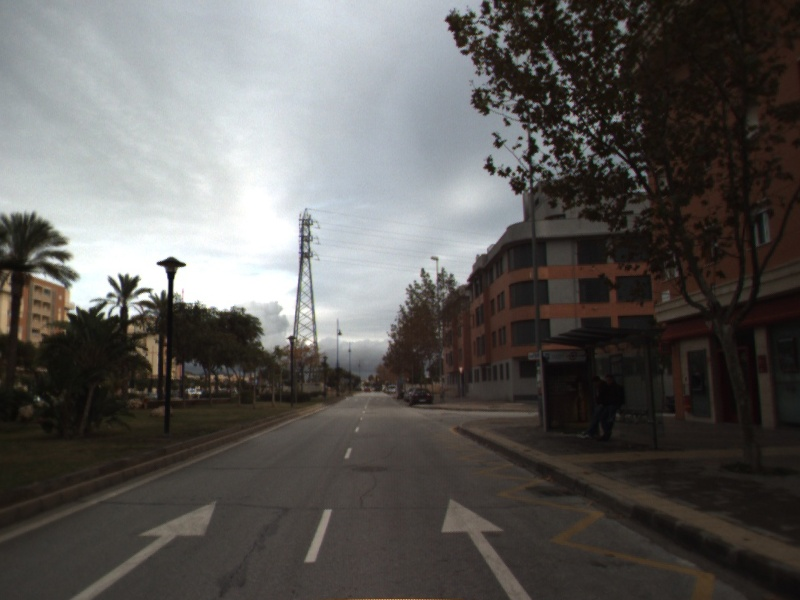STRAIGHT: (67, 497, 220, 600), (439, 496, 535, 600)
